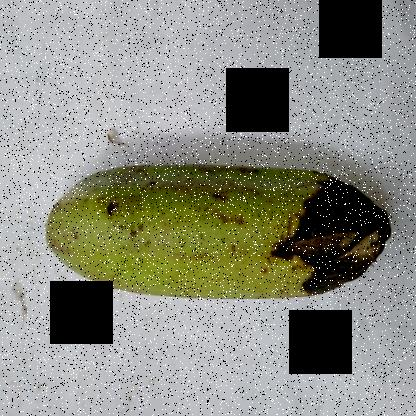rotten: (265, 160, 406, 302)
